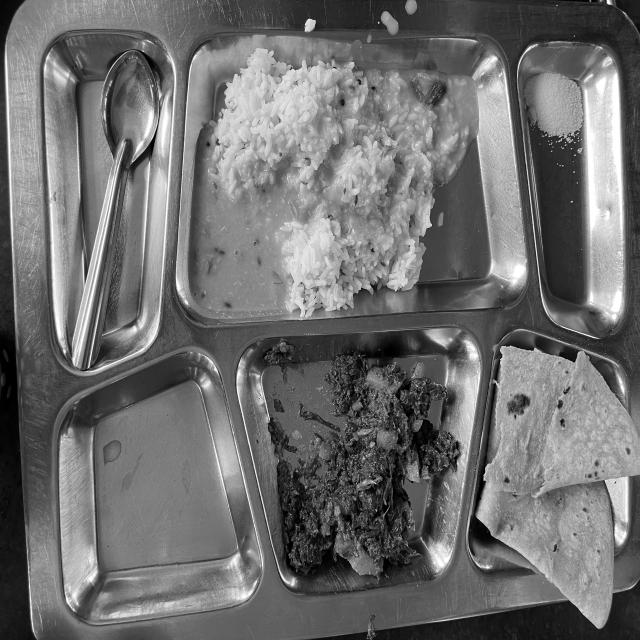70-Food-Left: (18, 6, 640, 618)
